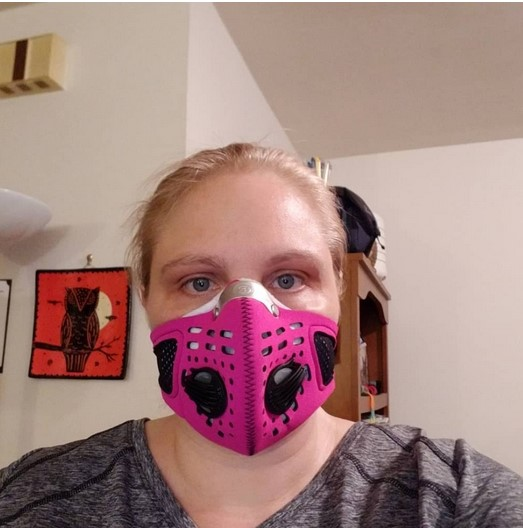face_with_mask: (135, 151, 350, 459)
